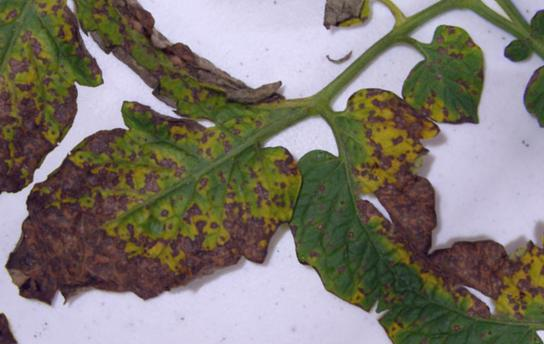Tomato Septoria leaf spot: (0, 36, 332, 344), (231, 53, 506, 331), (121, 0, 303, 172), (378, 12, 524, 157), (459, 23, 544, 145), (280, 0, 435, 1)
